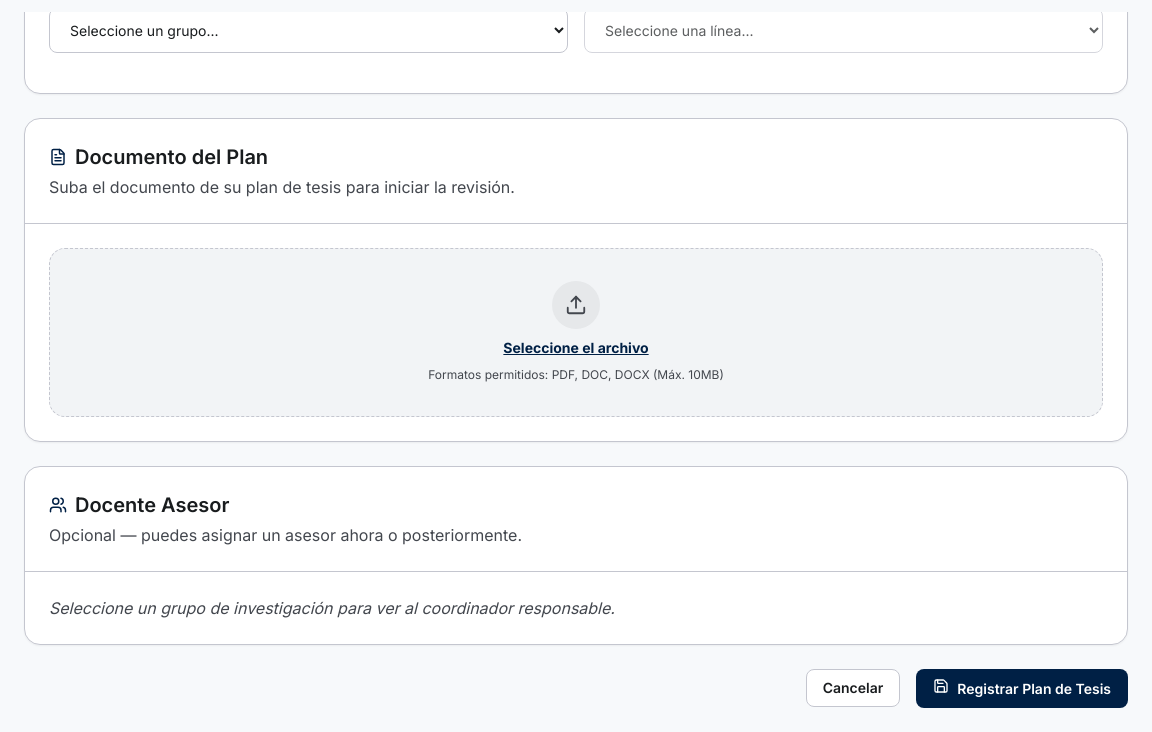
Test: NewThesisPlan › clears error message when user types
Click the button "Registrar Plan de Tesis" at point(1022, 688), box [916,669,1128,708]
(page scrolled)
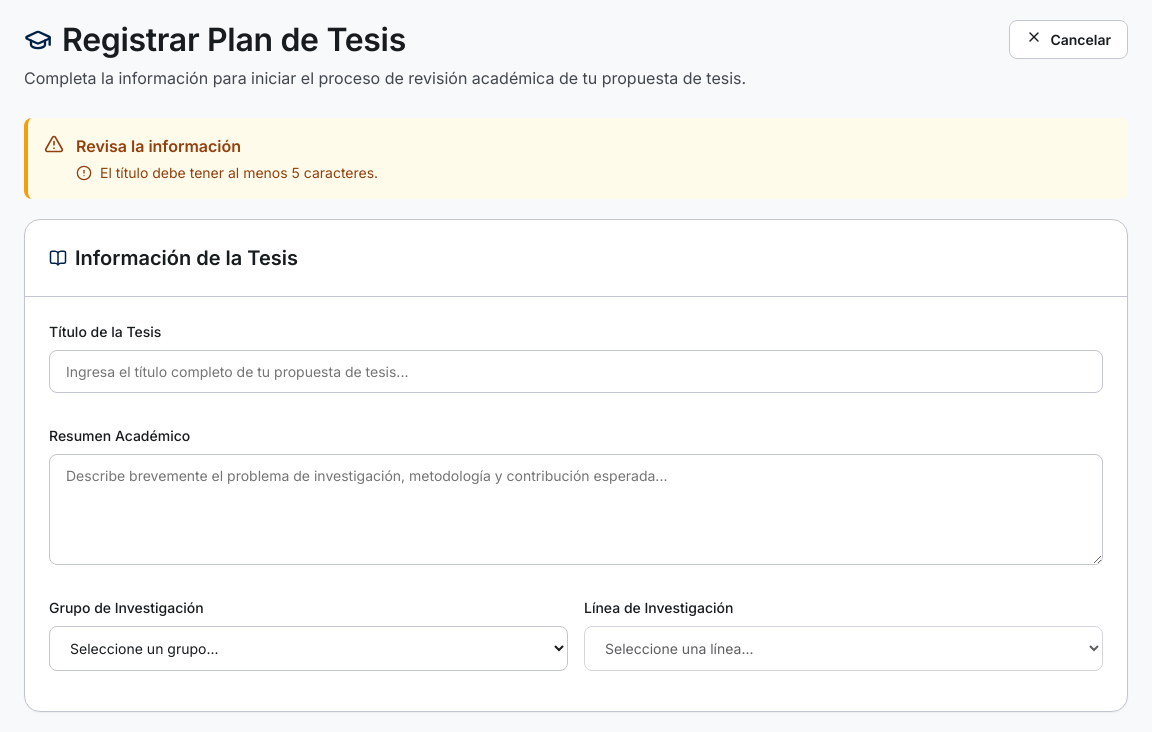
Expected: the text "El título debe tener al menos 5 caracteres." is shown, [100,162,378,183]
Type "Nuevo título" into the field with placeholder "Ingresa el título completo de tu propuesta de tesis..." at point(576, 372), box [49,350,1103,393]
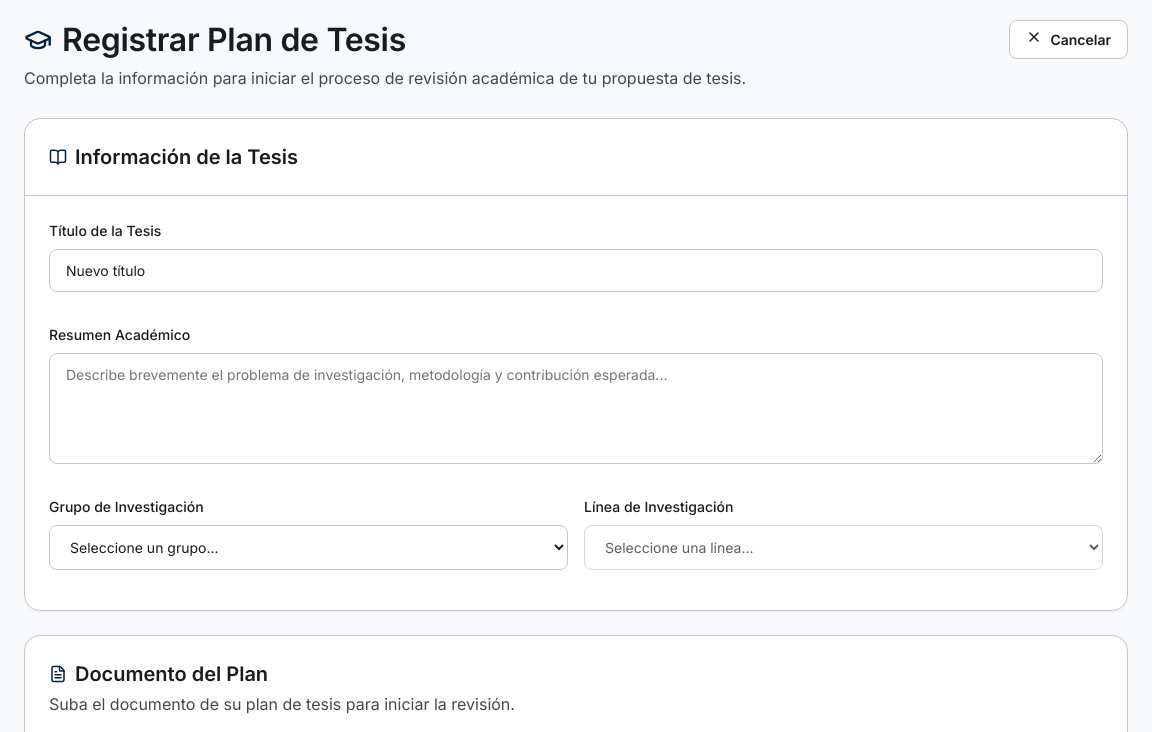
Expected: the text "al menos 5 caracteres" is gone
